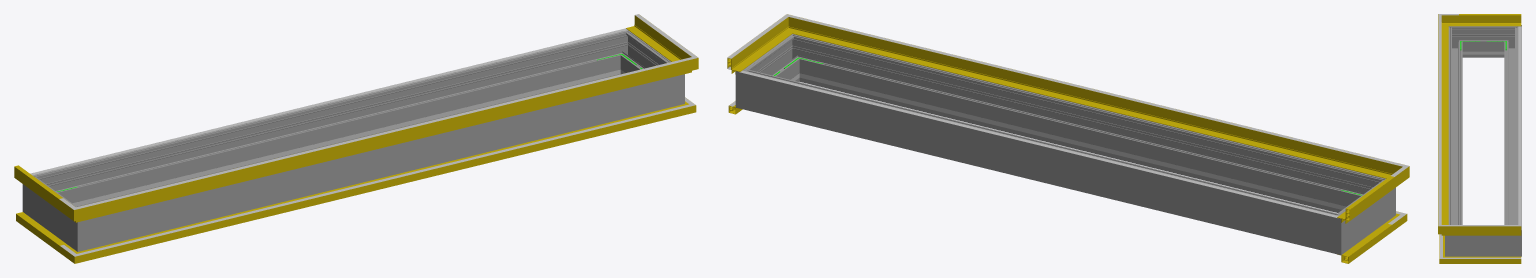
3 views of the same model, side by side, from view 1: azimuth 30°, elevation 25°; view 2: azimuth 150°, elevation 25°; view 3: azimuth 270°, elevation 25° (orthographic). The views are drawn at different scales.
Visible parts, largest first — view 1: 3DGeom-276, 3DGeom-298, 3DGeom-56, 3DGeom-11, 3DGeom-244, 3DGeom-220, 3DGeom-66, 3DGeom-20, 3DGeom-270, 3DGeom-284, 3DGeom-58, 3DGeom-290 (+8 smaller); view 2: 3DGeom-298, 3DGeom-276, 3DGeom-56, 3DGeom-239, 3DGeom-220, 3DGeom-66, 3DGeom-278, 3DGeom-284, 3DGeom-58, 3DGeom-290, 3DGeom-297, 3DGeom-268 (+5 smaller); view 3: 3DGeom-276, 3DGeom-298, 3DGeom-56, 3DGeom-268, 3DGeom-220, 3DGeom-66, 3DGeom-297, 3DGeom-50, 3DGeom-58, 3DGeom-284, 3DGeom-290, 3DGeom-16 (+14 smaller).
Part boxes in pixels (<box>): 3DGeom-276: <box>51,35,616,206</box>; 3DGeom-298: <box>103,80,658,245</box>; 3DGeom-56: <box>97,64,672,217</box>; 3DGeom-11: <box>97,108,669,257</box>; 3DGeom-244: <box>82,75,595,205</box>; 3DGeom-220: <box>30,28,627,175</box>; 3DGeom-66: <box>98,62,671,203</box>; 3DGeom-20: <box>99,110,669,250</box>; 3DGeom-270: <box>62,202,103,251</box>; 3DGeom-284: <box>606,30,640,75</box>; 3DGeom-58: <box>626,15,679,60</box>; 3DGeom-290: <box>659,57,684,110</box>; 3DGeom-298: <box>804,39,1367,212</box>; 3DGeom-276: <box>761,74,1319,248</box>; 3DGeom-56: <box>805,22,1381,176</box>; 3DGeom-239: <box>824,79,1336,208</box>; 3DGeom-220: <box>740,70,1338,217</box>; 3DGeom-66: <box>811,20,1382,161</box>; 3DGeom-278: <box>1315,206,1356,254</box>; 3DGeom-284: <box>735,61,766,113</box>; 3DGeom-58: <box>727,26,784,74</box>; 3DGeom-290: <box>780,34,813,82</box>; 3DGeom-297: <box>755,43,797,81</box>; 3DGeom-268: <box>1348,187,1380,243</box>; 3DGeom-276: <box>1504,33,1521,224</box>; 3DGeom-298: <box>1448,33,1462,224</box>; 3DGeom-56: <box>1438,23,1448,224</box>; 3DGeom-268: <box>1466,26,1500,57</box>; 3DGeom-220: <box>1518,26,1521,229</box>; 3DGeom-66: <box>1438,23,1441,217</box>; 3DGeom-297: <box>1466,235,1500,256</box>; 3DGeom-50: <box>1459,15,1521,26</box>; 3DGeom-58: <box>1459,226,1521,235</box>; 3DGeom-284: <box>1501,222,1521,256</box>; 3DGeom-290: <box>1445,222,1465,256</box>; 3DGeom-16: <box>1460,256,1521,263</box>.
Size of the model in its own units: 3.66 by 0.307 by 0.6096.
